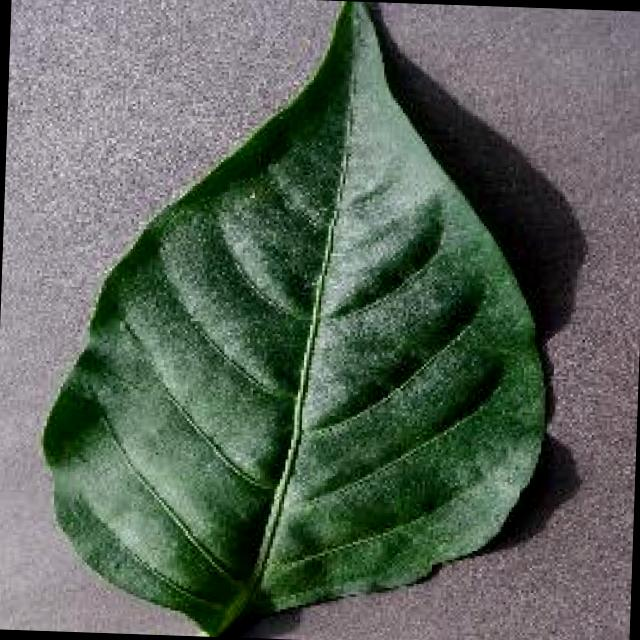Leaf: (26, 0, 590, 637)
